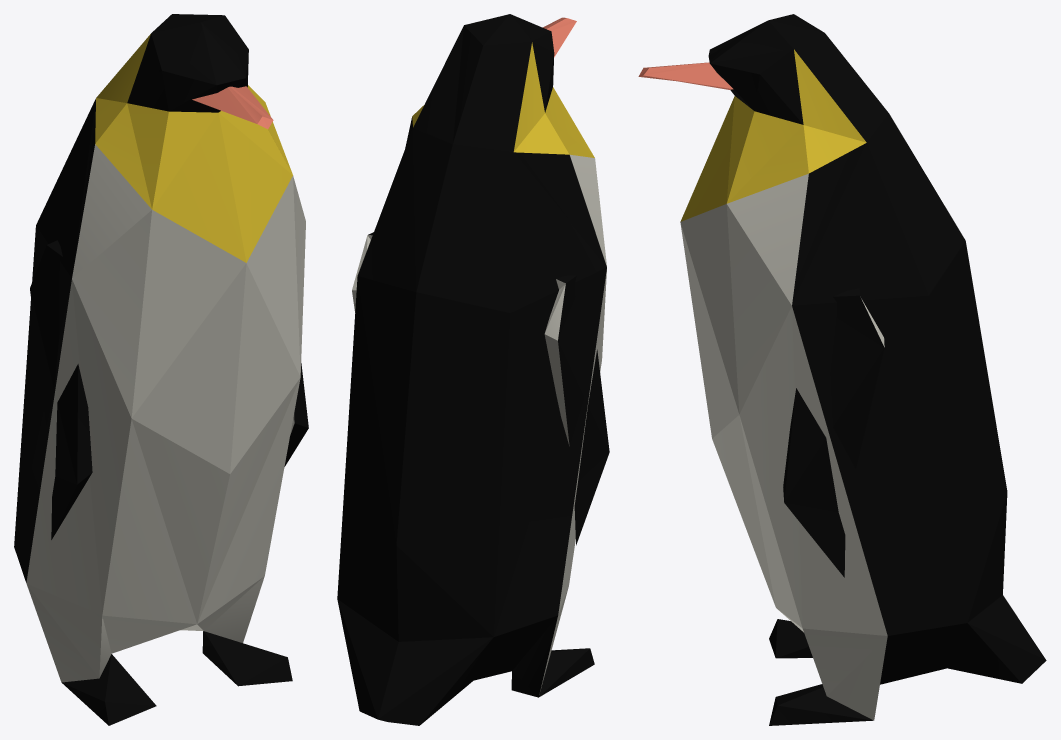
Rendered from penguin_lod1.glb.
3 renders of one model, left to right at view 1: azimuth 30°, elevation 25°; view 2: azimuth 150°, elevation 25°; view 3: azimuth 270°, elevation 25°, orthographic. The views are drawn at different scales.
Visible parts, largest first — view 1: penguin; view 2: penguin; view 3: penguin.
Part boxes in pixels (x1,y1,x2,y2): penguin: (14, 14, 308, 725); penguin: (337, 14, 609, 725); penguin: (638, 14, 1046, 725).
Size of the model in its own units: 0.3063 by 0.8519 by 0.476.
